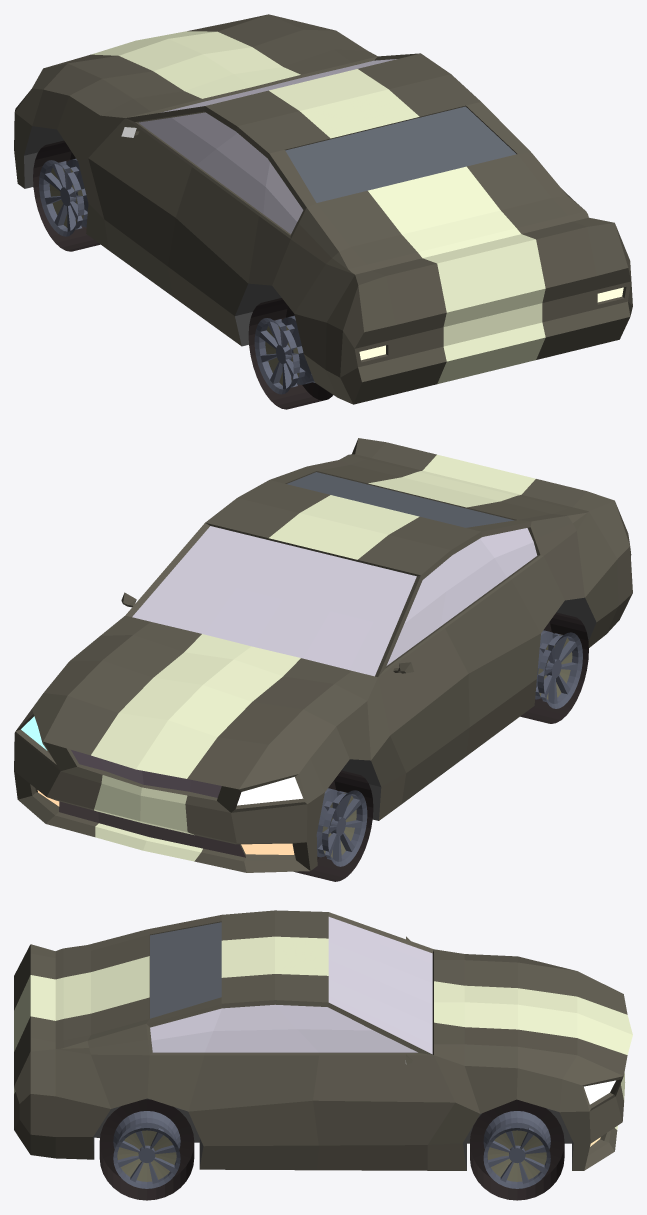
The model's file is FordGT.glb.
3 renders of one model, top to bottom at view 1: azimuth 30°, elevation 25°; view 2: azimuth 150°, elevation 25°; view 3: azimuth 270°, elevation 25°, orthographic. The views are drawn at different scales.
Visible parts, largest first — view 1: CarBody, wheel_back_left, wheel_front_left; view 2: CarBody, wheel_front_left, wheel_back_left; view 3: CarBody, wheel_back_right, wheel_front_right.
Part boxes in pixels (<box>): CarBody: <box>14,14,632,404</box>; wheel_back_left: <box>248,298,332,409</box>; wheel_front_left: <box>33,140,100,251</box>; CarBody: <box>14,438,632,872</box>; wheel_front_left: <box>294,770,373,881</box>; wheel_back_left: <box>520,612,588,723</box>; CarBody: <box>14,910,632,1170</box>; wheel_back_right: <box>99,1099,194,1200</box>; wheel_front_right: <box>470,1099,564,1200</box>.
Size of the model in its own units: 2.12 by 1.45 by 4.38.
